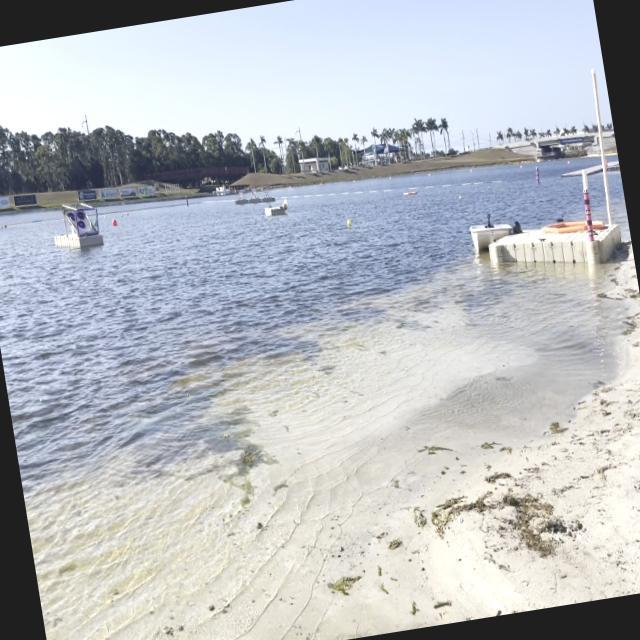buoy: (111, 216, 117, 230), (345, 217, 353, 224)
